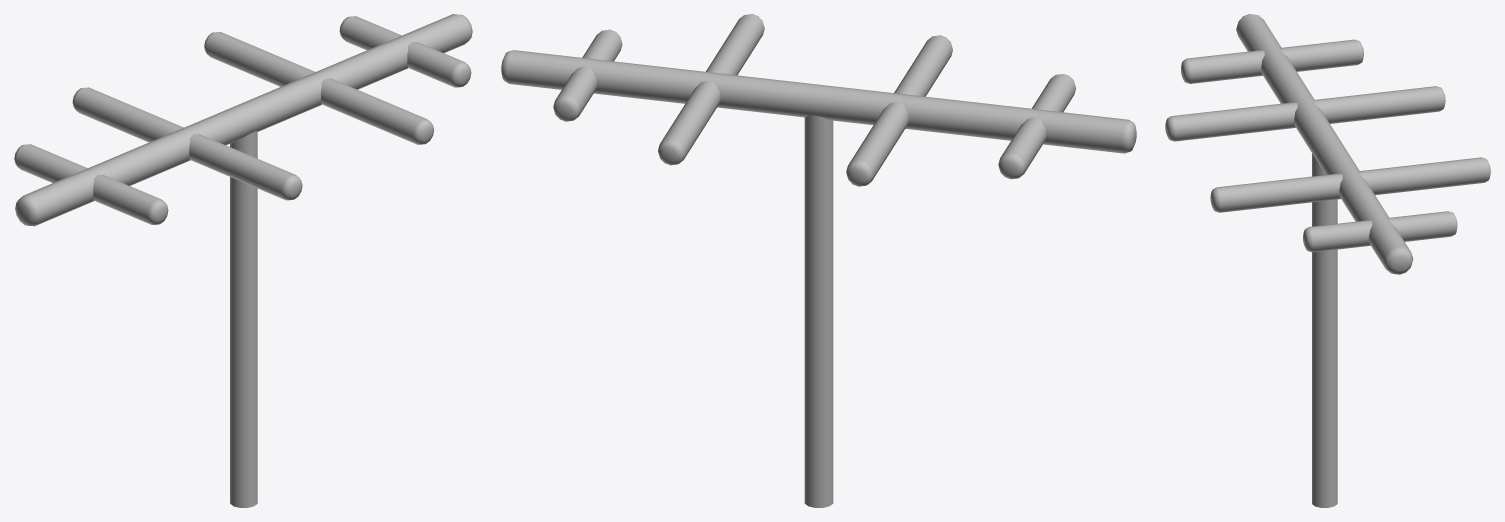
File: City_1_Antenna_3.glb
3 views of the same model, side by side, from view 1: azimuth 30°, elevation 25°; view 2: azimuth 150°, elevation 25°; view 3: azimuth 270°, elevation 25° (orthographic). The views are drawn at different scales.
Visible parts, largest first — view 1: City_1_Antenna_3; view 2: City_1_Antenna_3; view 3: City_1_Antenna_3.
Part boxes in pixels (x1=…): City_1_Antenna_3: x1=14, y1=14, x2=472, y2=507; City_1_Antenna_3: x1=501, y1=14, x2=1136, y2=507; City_1_Antenna_3: x1=1165, y1=14, x2=1490, y2=507.
Bounding box in the file's own units: 2.48 × 1.79 × 1.42.
Materials: 1 (1 with a texture image).
